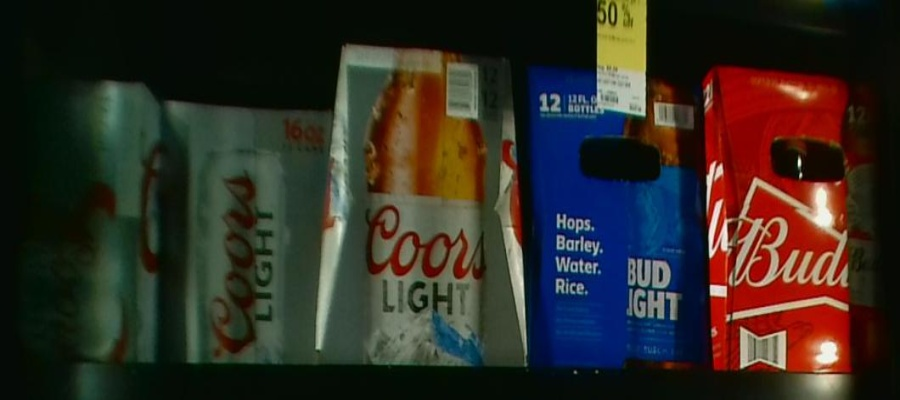bottle: (329, 47, 524, 366), (528, 67, 702, 369), (708, 68, 878, 374), (3, 80, 161, 358), (162, 99, 326, 359)
